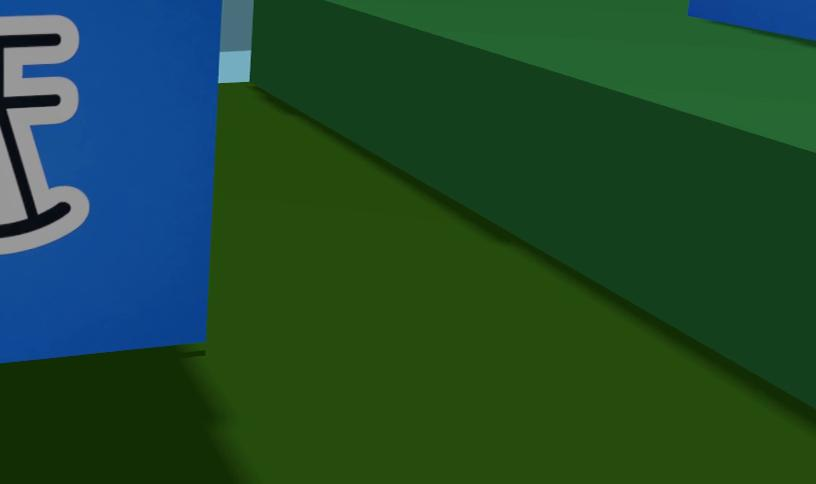KFS_REAL: (0, 0, 221, 361), (0, 15, 87, 254), (688, 0, 815, 39)
